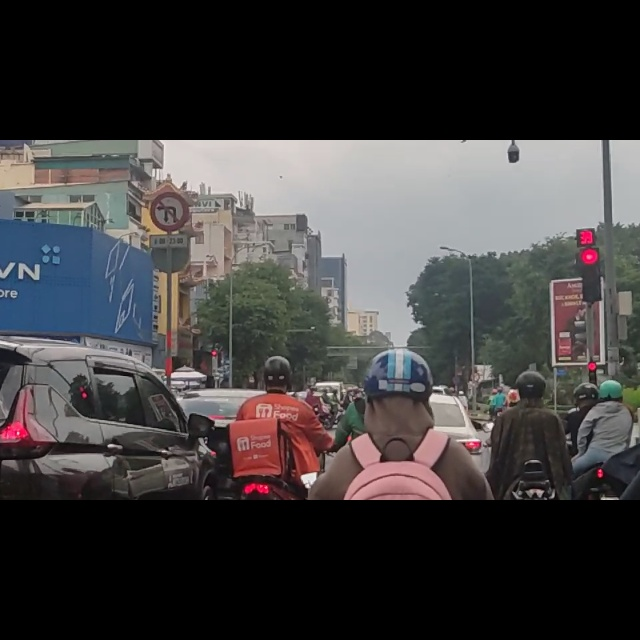bien_cam: (148, 81, 191, 165)
